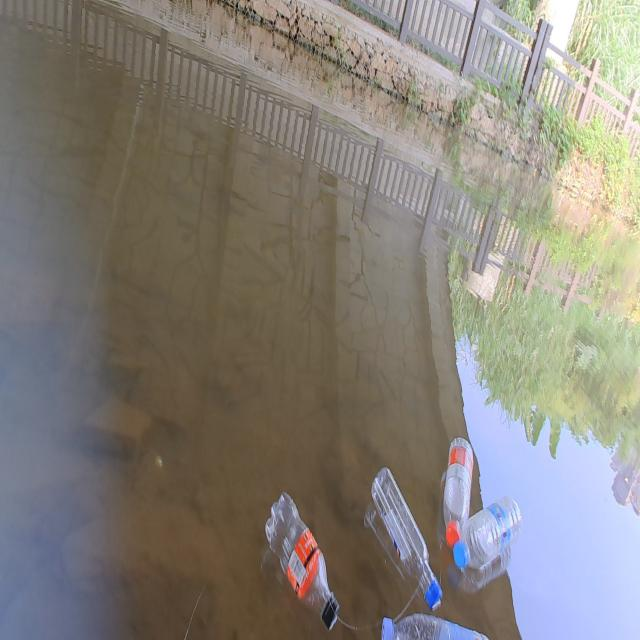Bottle: (368, 462, 443, 608), (264, 486, 340, 629), (451, 496, 523, 569), (444, 426, 473, 542), (381, 610, 493, 640)
